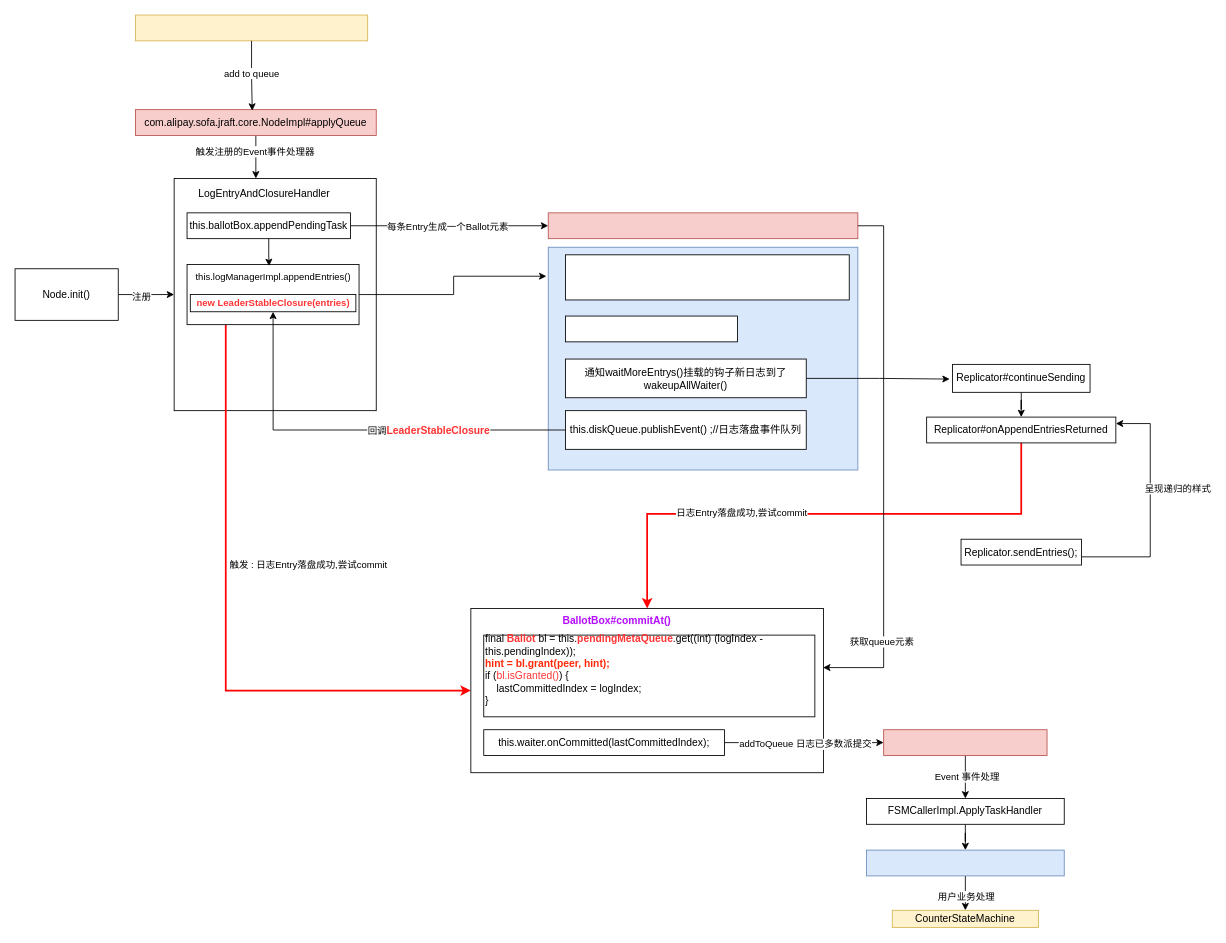
Some shapes in this 1226 by 943 pixel diagram are drawn without their labels. Each missing label, with the centre of its shape:
com.alipay.sofa.jraft.core.BallotBox#pendingMetaQueue: [702,225]
FSMCallerImpl#doApplyTasks: [965,862]
FSMCallerImpl#taskQueue: [965,742]
this.counterServer. getNode().apply(task) ;: [251,27]
this.logsInMemory.addAll(entries);: [651,328]
补充Entry的logIndex与解决主从日志冲突 LogManagerImpl#checkAndResolveConflict: [707,277]
